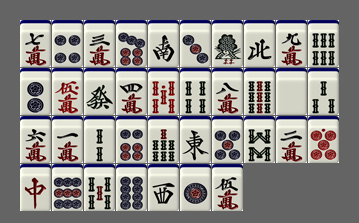0m: (52, 68, 83, 115)
0p: (308, 116, 339, 163)
0s: (148, 68, 179, 115)
1m: (52, 116, 83, 163)
1p: (180, 164, 211, 211)
1s: (212, 20, 243, 67)
1z: (180, 116, 211, 163)
2m: (276, 116, 307, 163)
2p: (20, 68, 51, 115)
2s: (84, 116, 115, 163)
2z: (148, 20, 179, 67)
3m: (84, 20, 115, 67)
3p: (180, 20, 211, 67)
3s: (308, 68, 339, 115)
3z: (148, 164, 179, 211)
4m: (116, 68, 147, 115)
4p: (52, 20, 83, 67)
4s: (180, 68, 211, 115)
4z: (244, 20, 275, 67)
5m: (212, 164, 243, 211)
5p: (212, 116, 243, 163)
5s: (84, 164, 115, 211)
5z: (276, 68, 307, 115)
6m: (20, 116, 51, 163)
6p: (116, 116, 147, 163)
6s: (308, 20, 339, 67)
6z: (84, 68, 115, 115)
7m: (20, 20, 51, 67)
7p: (116, 20, 147, 67)
7s: (148, 116, 179, 163)
7z: (20, 164, 51, 211)
8m: (212, 68, 243, 115)
8p: (116, 164, 147, 211)
8s: (244, 116, 275, 163)
9m: (276, 20, 307, 67)
9p: (52, 164, 83, 211)
9s: (244, 68, 275, 115)
